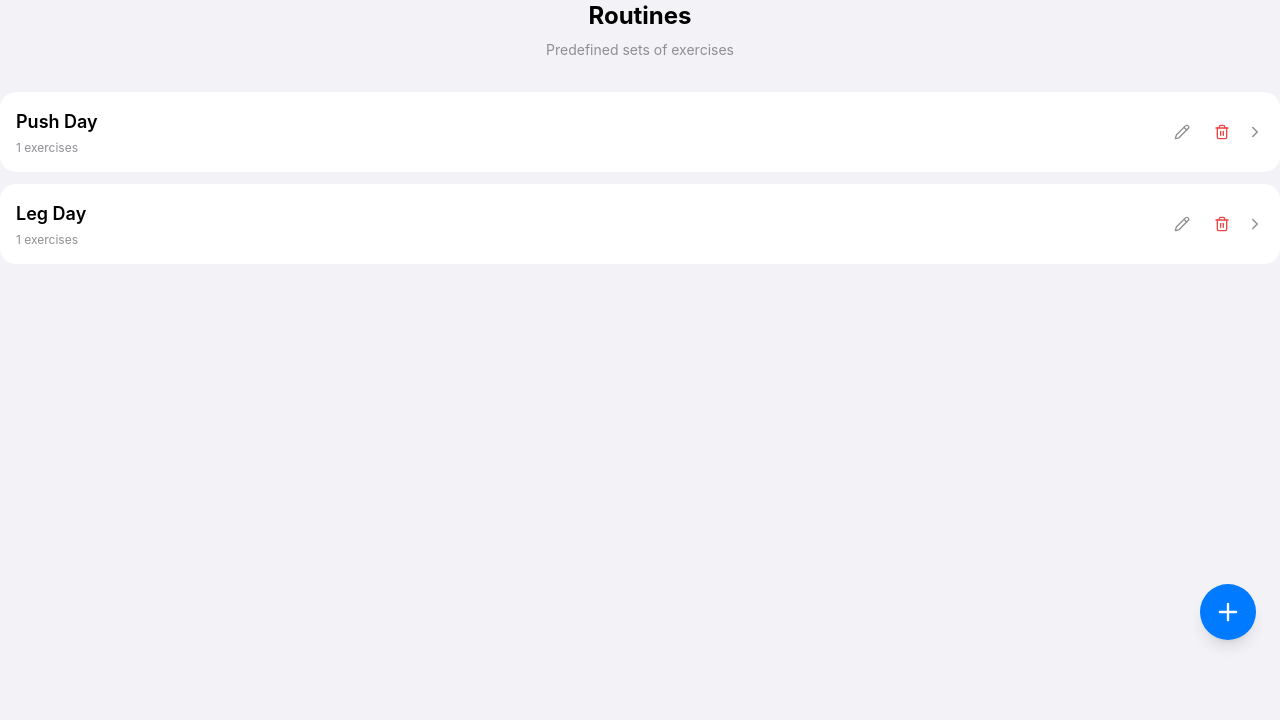
Test case: RoutinesScreen › opens create modal when FAB is clicked
Click the button named "New Routine" at [1228, 612], box [1200,584,1256,640]
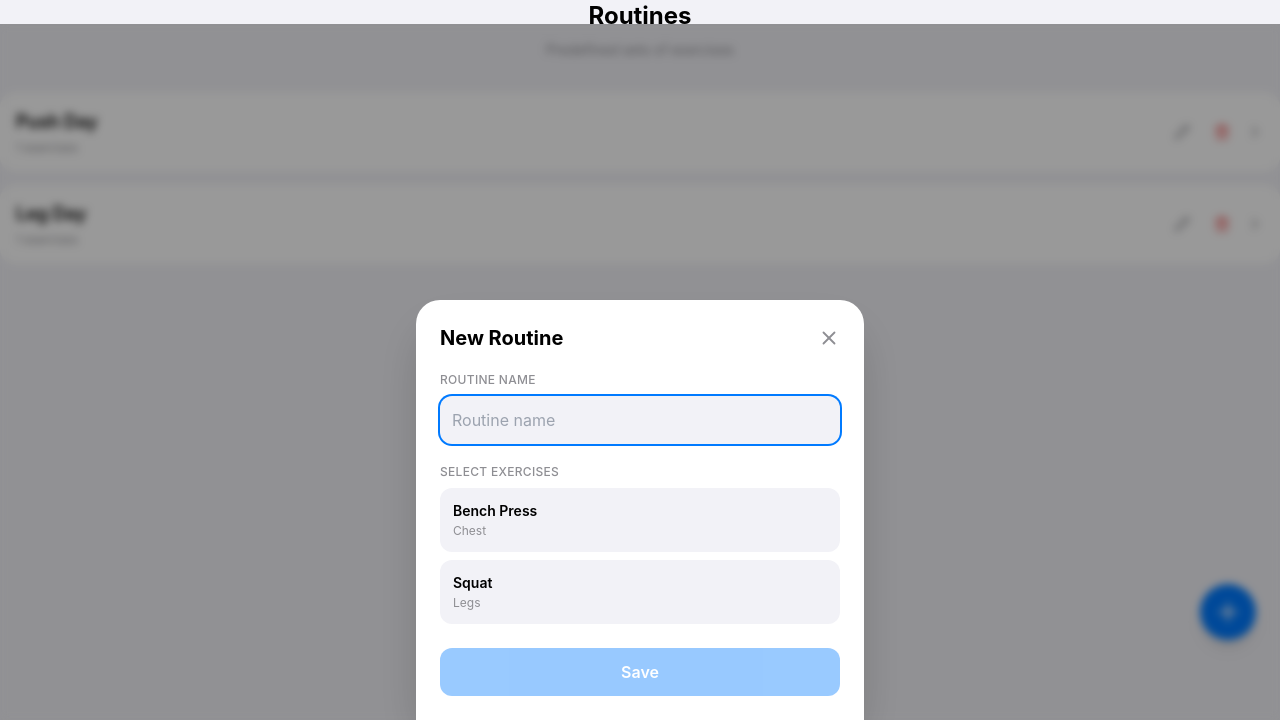
Expected: the heading "New Routine" is shown, [440,324,563,352]
